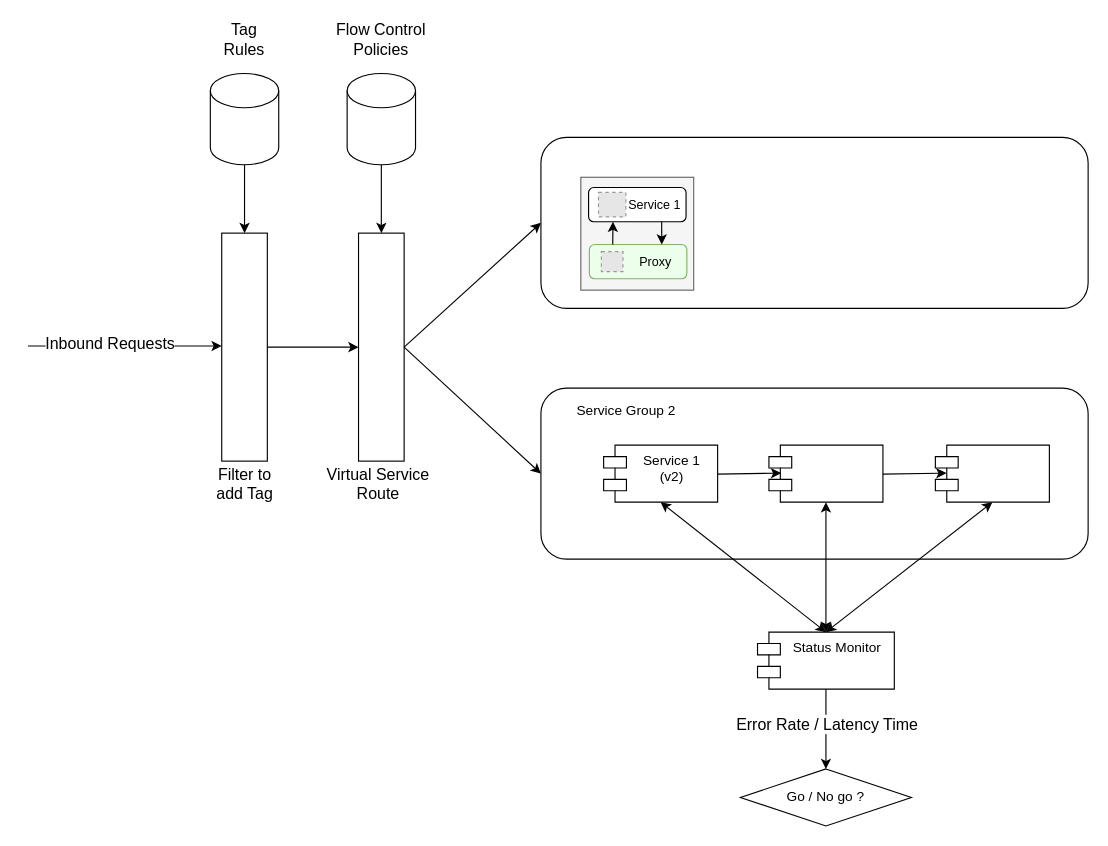
This 1108x846 diagram has some shape labels left out. Grey dashed boxes stand in for pictures. Here are the shapes that lost their labels. From the top down, the centre of each, then its label:
At [825,473]: "Service 2 (v2)".
At [991,473]: "Service 3 (v2)".
